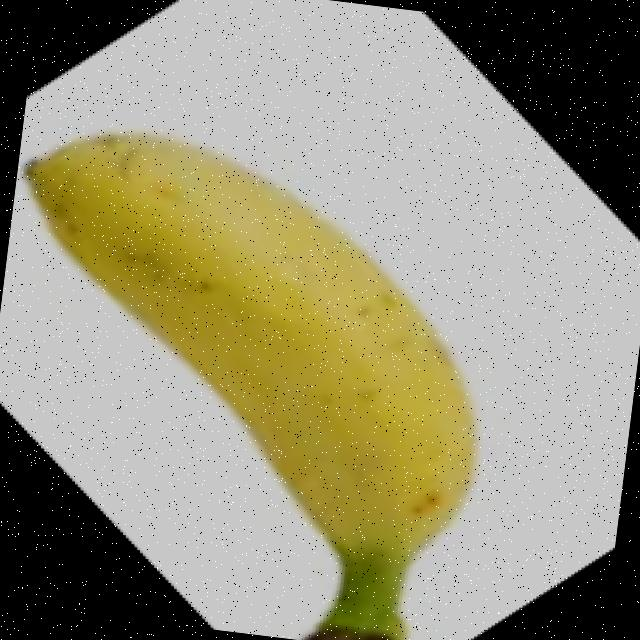banana: (0, 116, 508, 640)
